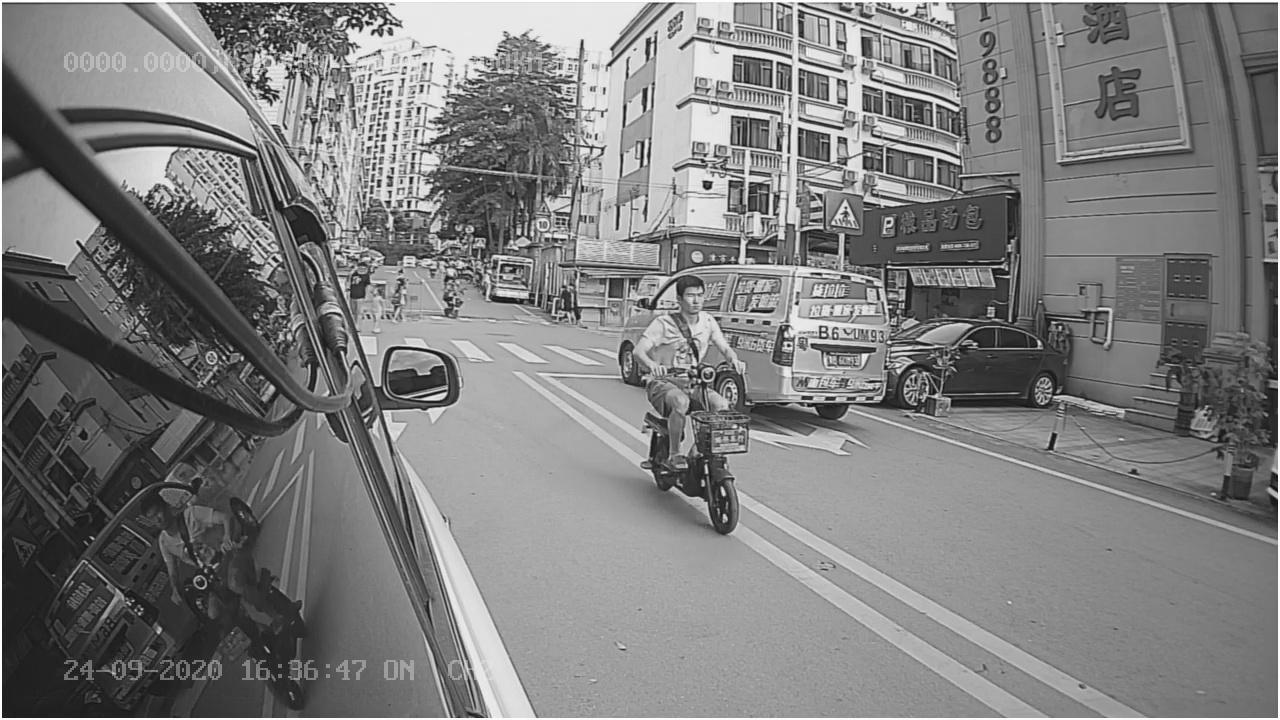person: (601, 264, 771, 552)
